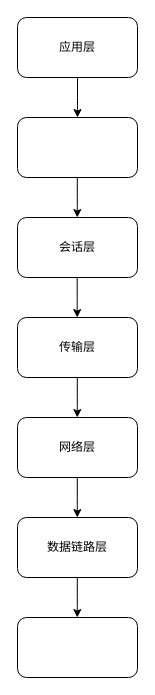
This 155x695 diagram has some shape labels left out. The shapes that lost their labels are listed below. From the top down, each one's box as (x1, y1, x2, y2) in pixels, then its label:
(16, 116, 138, 178): 表示层
(16, 616, 138, 678): 物理层
